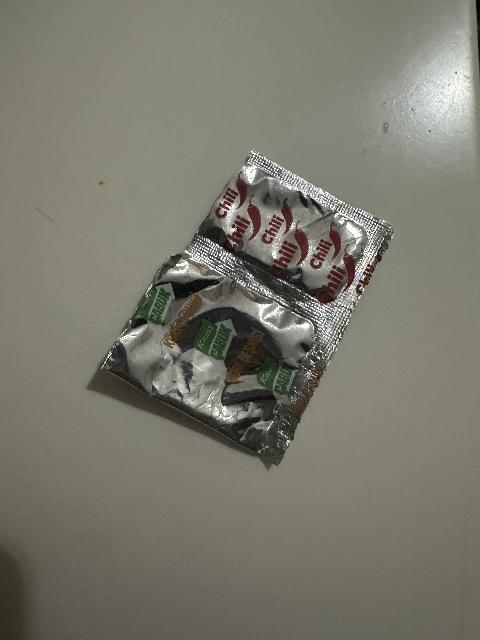Plastik: (86, 151, 406, 463)
